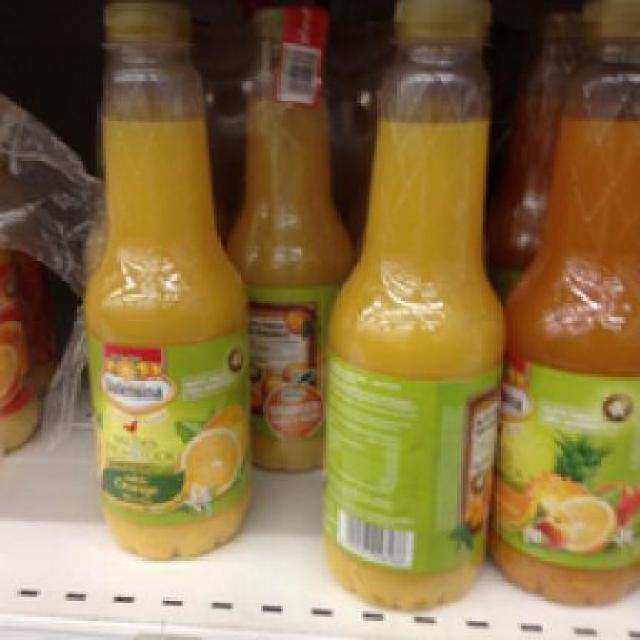Juice: (320, 0, 503, 609), (80, 0, 249, 560), (492, 0, 632, 603)
